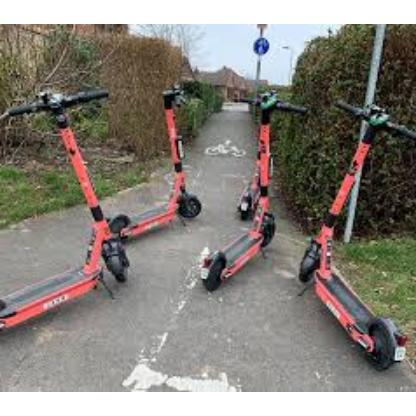bike: (198, 89, 308, 293)
